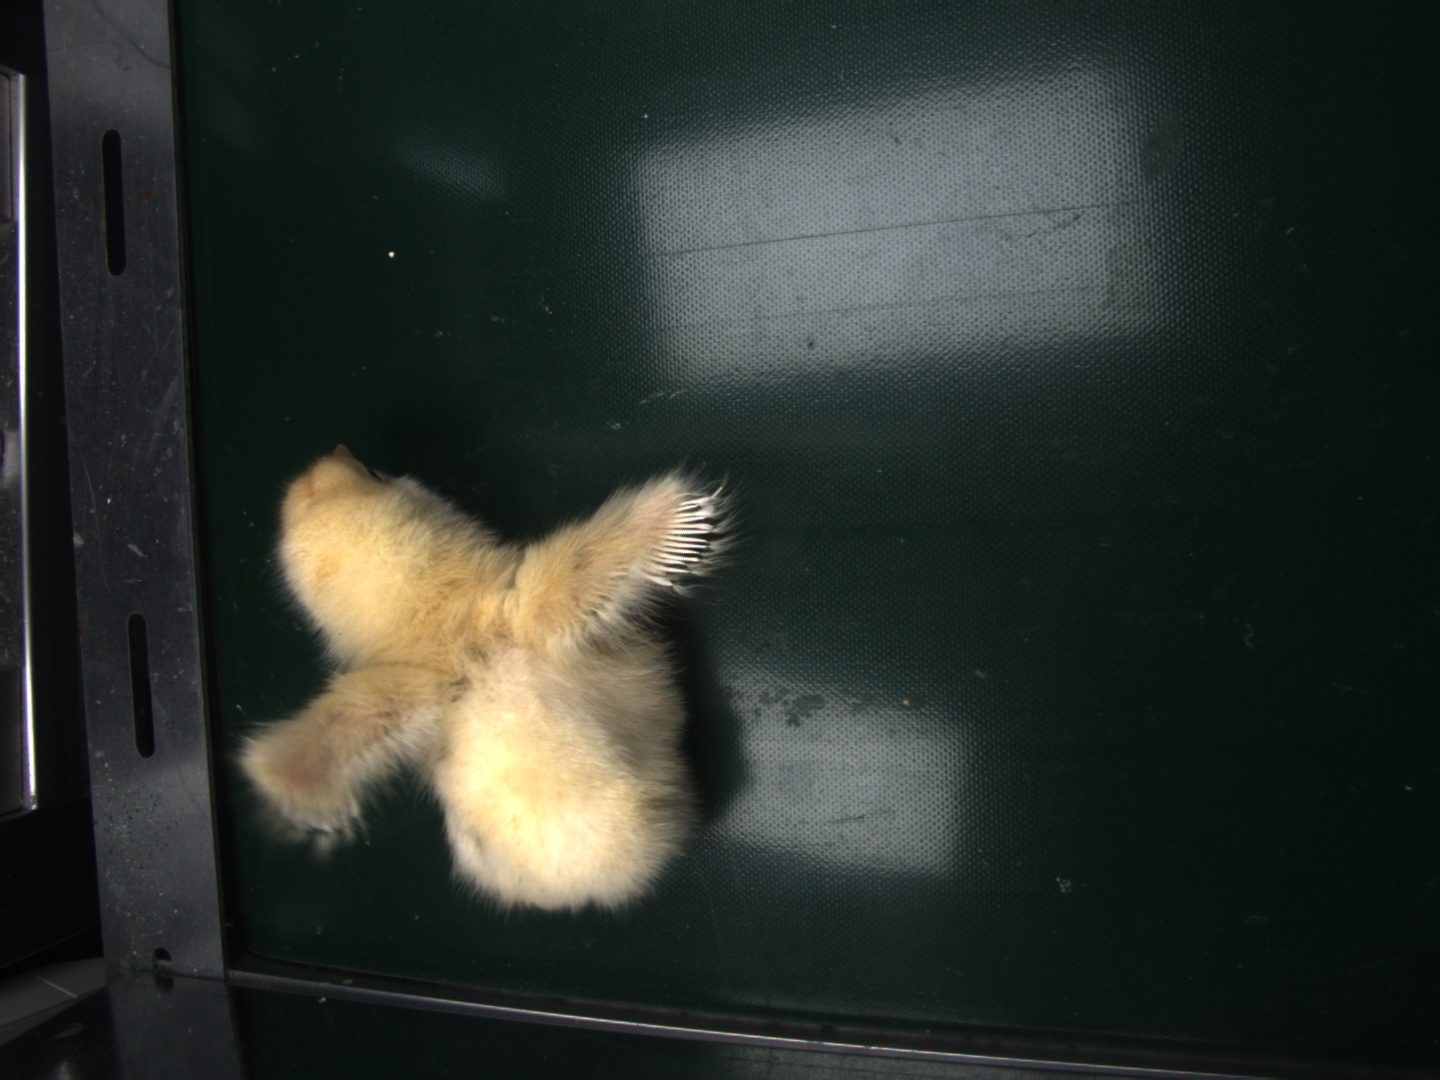male: (642, 490, 717, 577)
